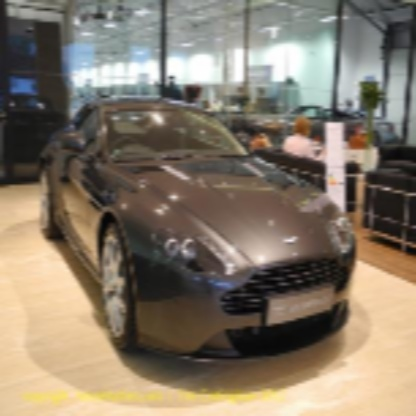Vehicle: (38, 94, 359, 368)
